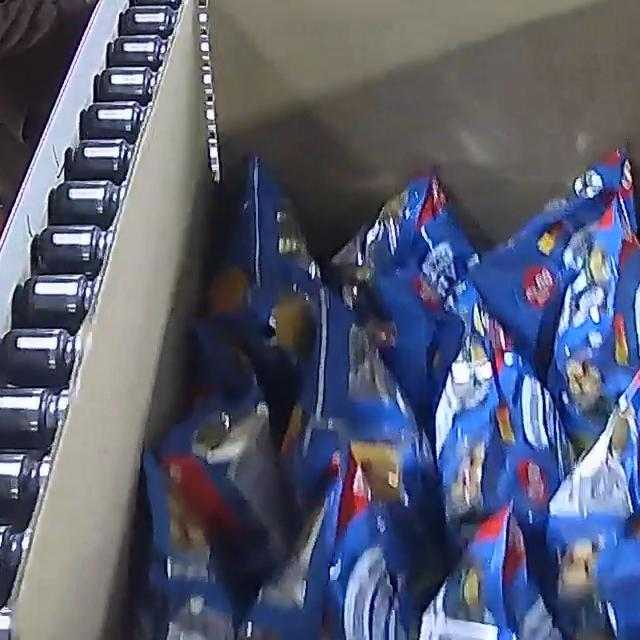paprika: (131, 139, 640, 640)
